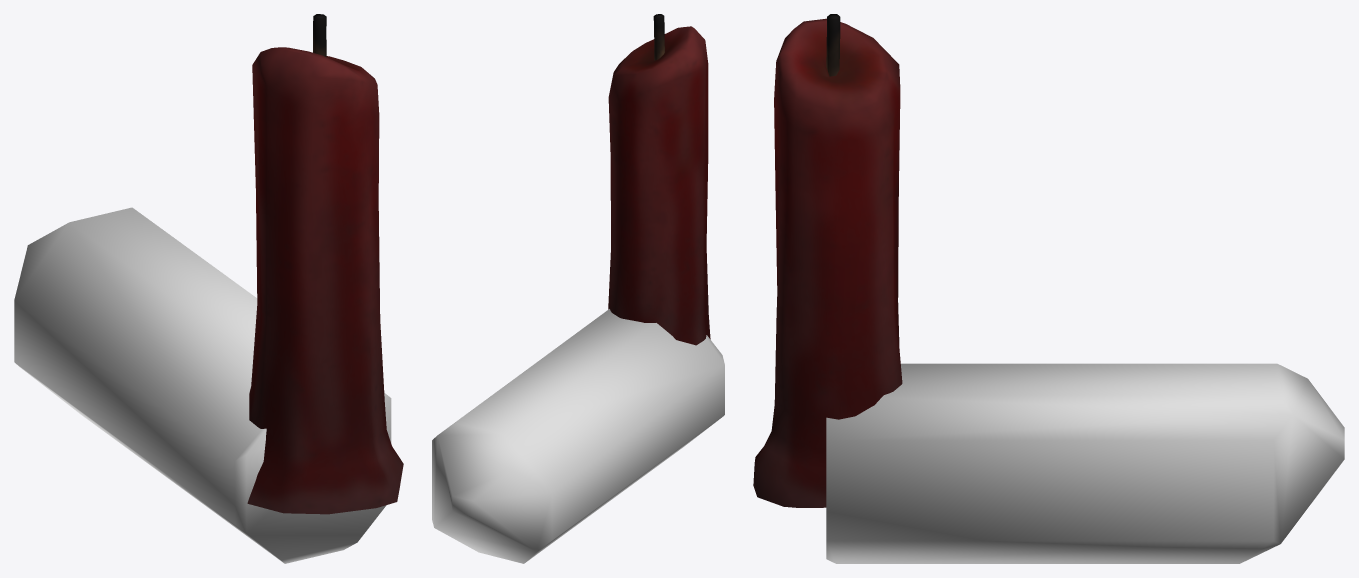
Rendered from SM_Candles_D.fbx.
3 renders of one model, left to right at view 1: azimuth 30°, elevation 25°; view 2: azimuth 150°, elevation 25°; view 3: azimuth 270°, elevation 25°, orthographic. The views are drawn at different scales.
Parts seen in each view (by area): view 1: SM_Candles_D, SM_Candles_D_ConvexHulls; view 2: SM_Candles_D_ConvexHulls, SM_Candles_D; view 3: SM_Candles_D_ConvexHulls, SM_Candles_D.
Part boxes in pixels (bbox=[...]): SM_Candles_D: bbox=[247, 14, 403, 514]; SM_Candles_D_ConvexHulls: bbox=[14, 207, 391, 563]; SM_Candles_D_ConvexHulls: bbox=[432, 309, 724, 563]; SM_Candles_D: bbox=[608, 14, 710, 345]; SM_Candles_D_ConvexHulls: bbox=[826, 363, 1344, 563]; SM_Candles_D: bbox=[753, 14, 902, 507].
Size of the model in its own units: 0.0802 by 0.2724 by 0.2725.
